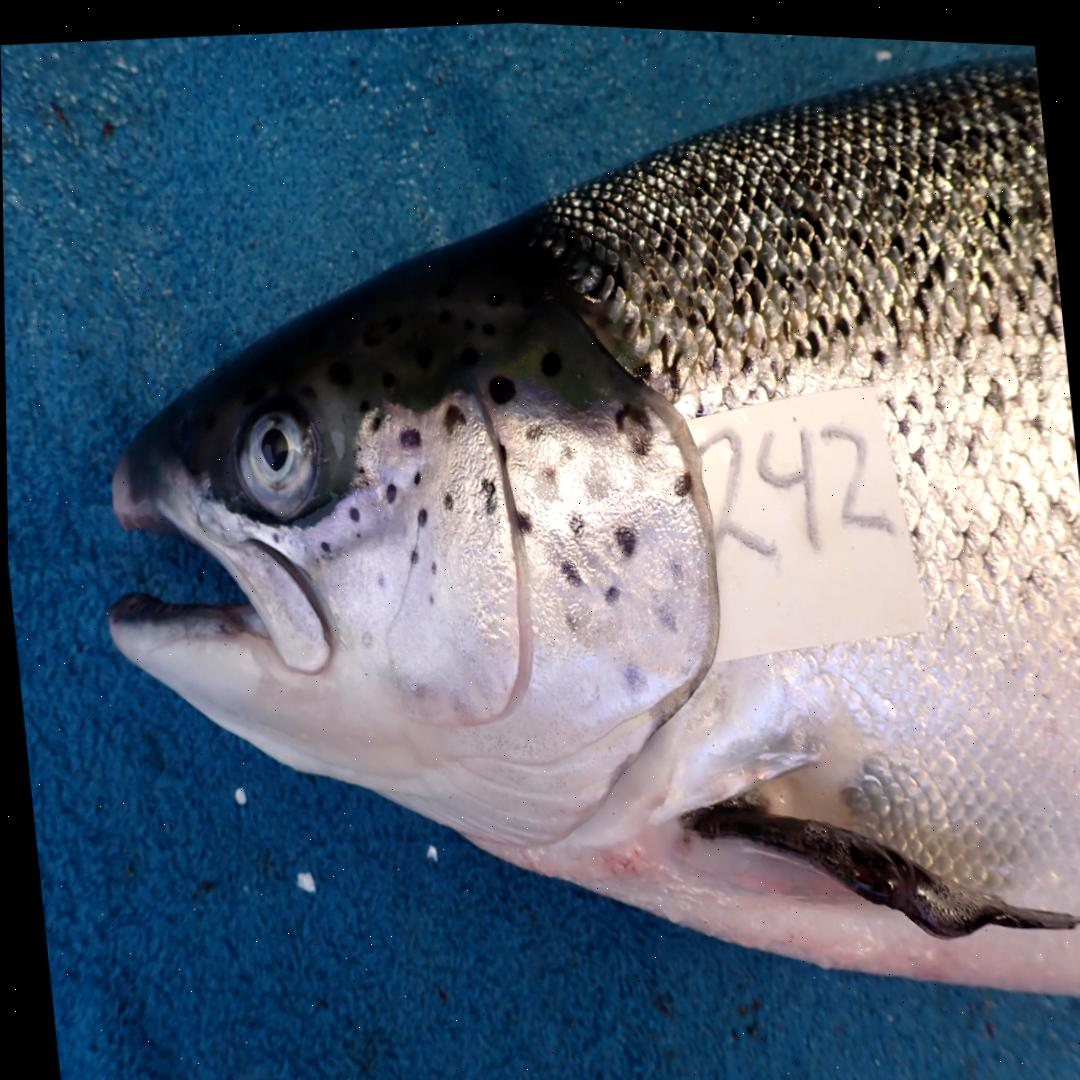spot: (613, 397, 653, 452), (557, 552, 583, 584), (487, 370, 515, 399), (563, 503, 587, 535), (621, 655, 644, 686), (614, 521, 636, 552), (360, 405, 385, 432), (443, 401, 465, 430), (480, 474, 496, 511), (514, 504, 533, 532), (657, 598, 674, 628), (673, 466, 692, 492), (398, 423, 420, 444), (669, 554, 682, 580), (525, 420, 544, 437), (603, 579, 618, 599), (360, 626, 374, 646), (563, 608, 576, 625), (384, 479, 395, 499), (416, 503, 427, 523), (497, 437, 505, 462), (408, 543, 418, 561), (442, 490, 452, 507), (411, 466, 421, 483), (348, 504, 359, 518), (319, 537, 330, 551), (430, 558, 435, 572), (377, 572, 382, 583), (427, 591, 432, 601), (358, 463, 364, 471), (364, 477, 368, 482)
